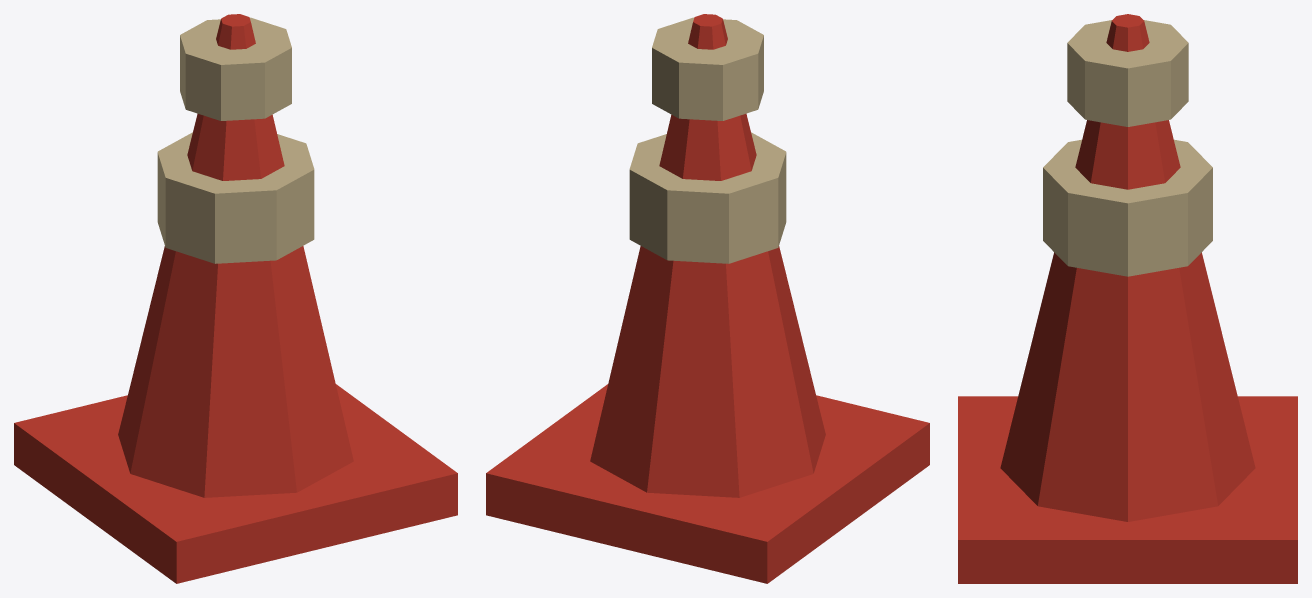
File: PRP_Cone.fbx
3 views of the same model, side by side, from view 1: azimuth 30°, elevation 25°; view 2: azimuth 150°, elevation 25°; view 3: azimuth 270°, elevation 25° (orthographic). The views are drawn at different scales.
Visible parts, largest first — view 1: PRP_Cone__BODY; view 2: PRP_Cone__BODY; view 3: PRP_Cone__BODY.
Boxes of the visible parts, x1,y1,x2,y2 form: PRP_Cone__BODY: (14,14,457,583); PRP_Cone__BODY: (486,14,929,583); PRP_Cone__BODY: (958,14,1297,583).
Bounding box in the file's own units: 0.42 × 0.67 × 0.42.
